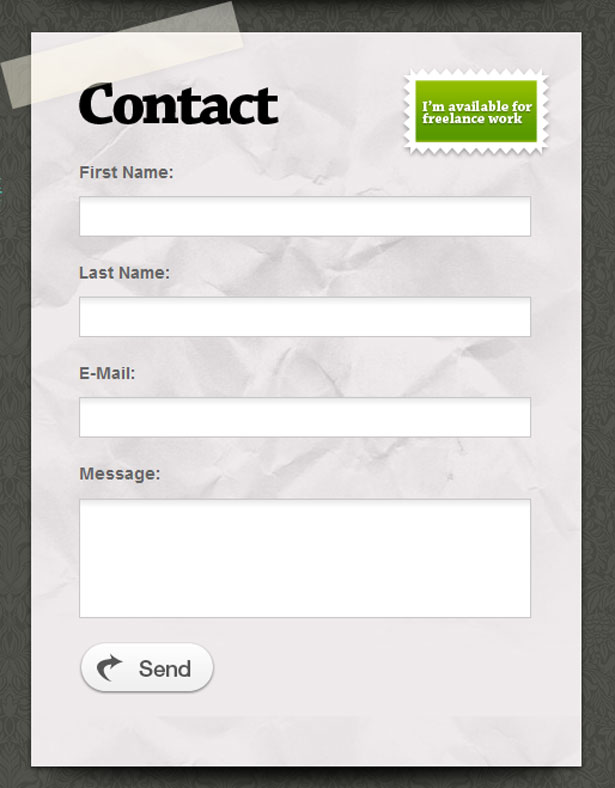button: (79, 642, 213, 694)
field: (77, 496, 533, 618), (76, 293, 532, 338), (78, 395, 532, 439), (75, 194, 531, 236)
